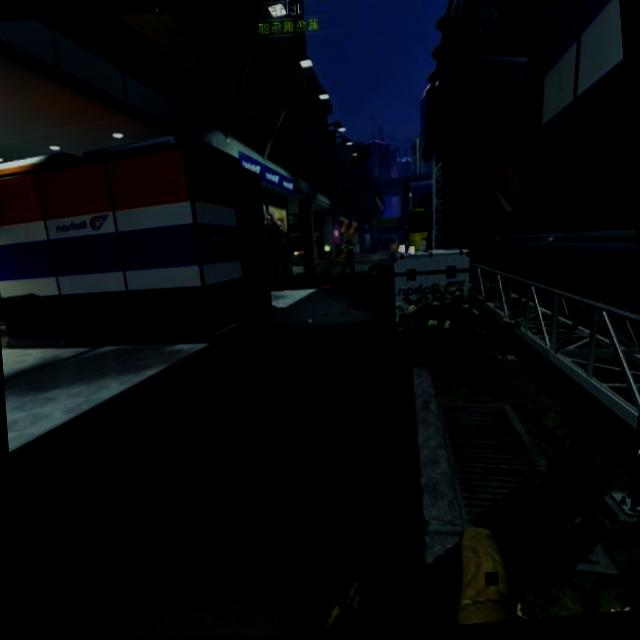MW2_body: (329, 238, 358, 284)
